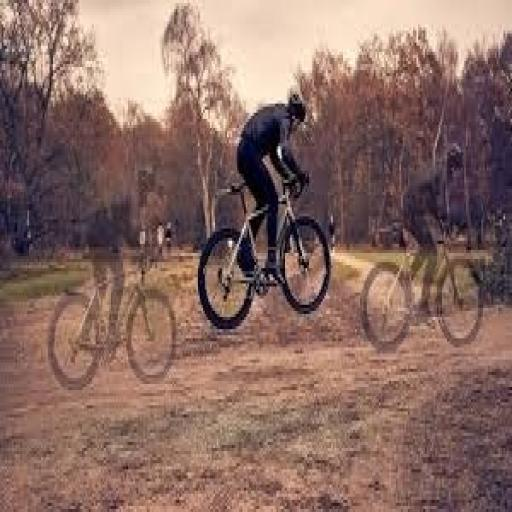cycling: (234, 86, 310, 286)
